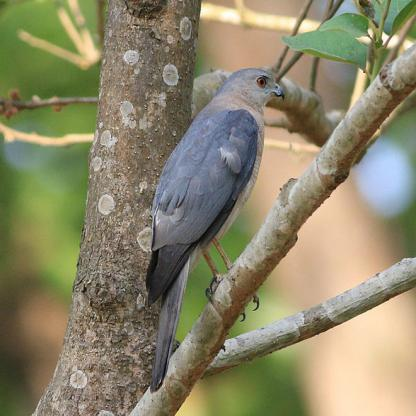Burung: (144, 70, 285, 394)
